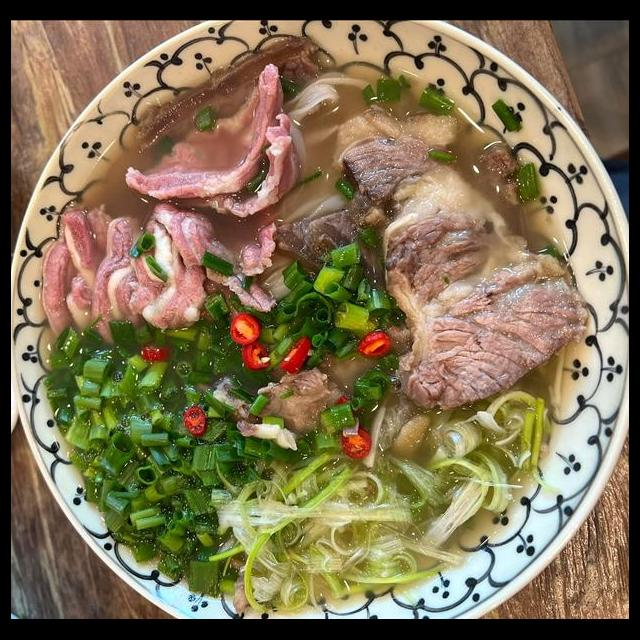banh pho: (277, 68, 379, 195)
pho bo: (20, 60, 629, 619)
thit bo: (335, 116, 593, 416), (34, 193, 300, 354), (122, 58, 306, 225), (203, 358, 356, 456)
